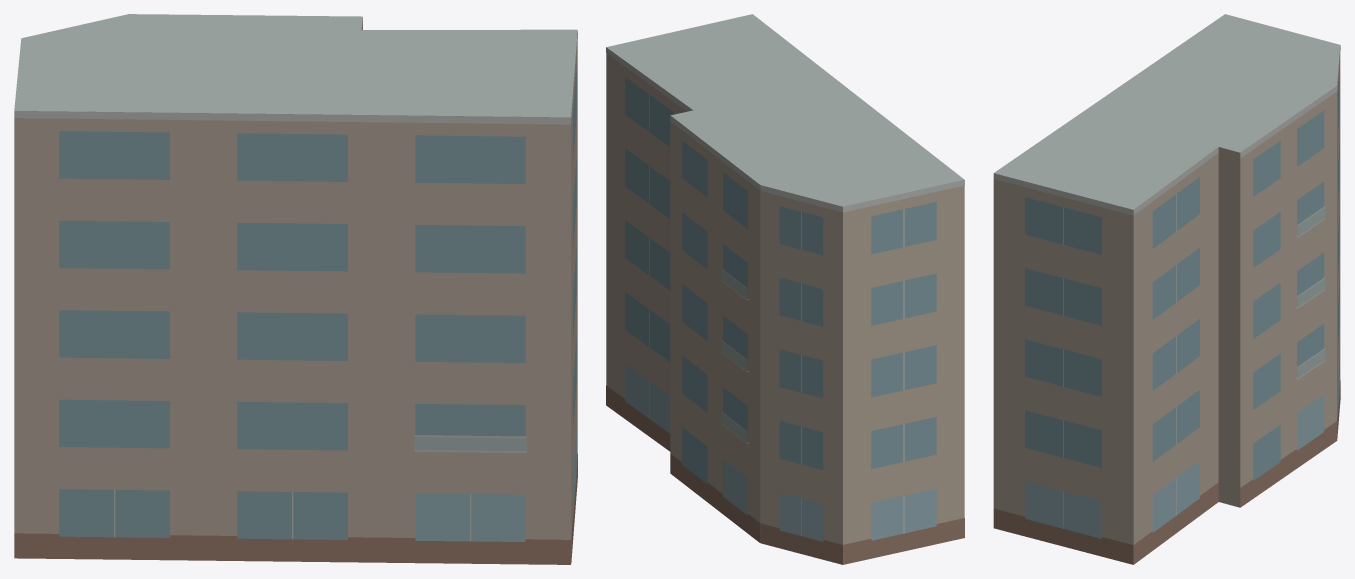
Rendered from survey-upis-32603596.glb.
3 views of the same model, side by side, from view 1: azimuth 30°, elevation 25°; view 2: azimuth 150°, elevation 25°; view 3: azimuth 270°, elevation 25° (orthographic). The views are drawn at different scales.
Visible parts, largest first — view 1: survey-upis-32603596.tmp; view 2: survey-upis-32603596.tmp; view 3: survey-upis-32603596.tmp.
Part boxes in pixels (x1=…): survey-upis-32603596.tmp: x1=14, y1=14, x2=577, y2=564; survey-upis-32603596.tmp: x1=606, y1=14, x2=964, y2=564; survey-upis-32603596.tmp: x1=993, y1=14, x2=1340, y2=564.
Size of the model in its own units: 17.87 by 15.1 by 13.38.
